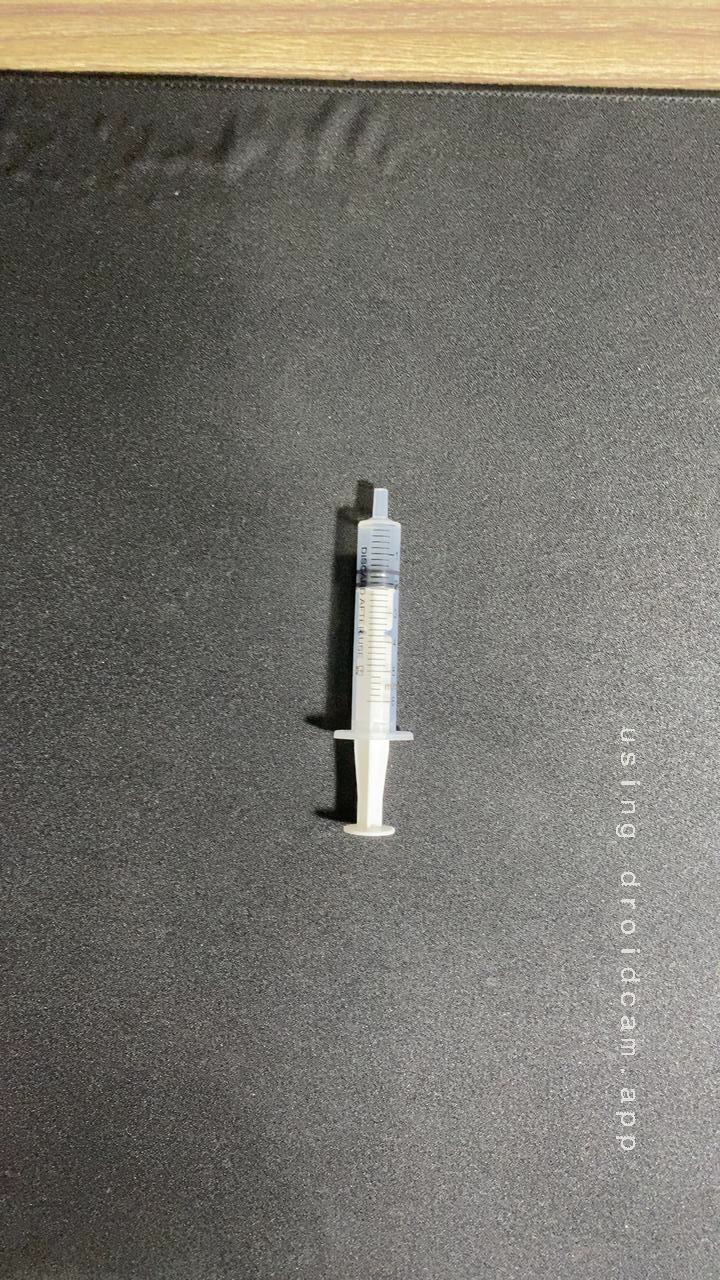syringe: (287, 467, 473, 870)
